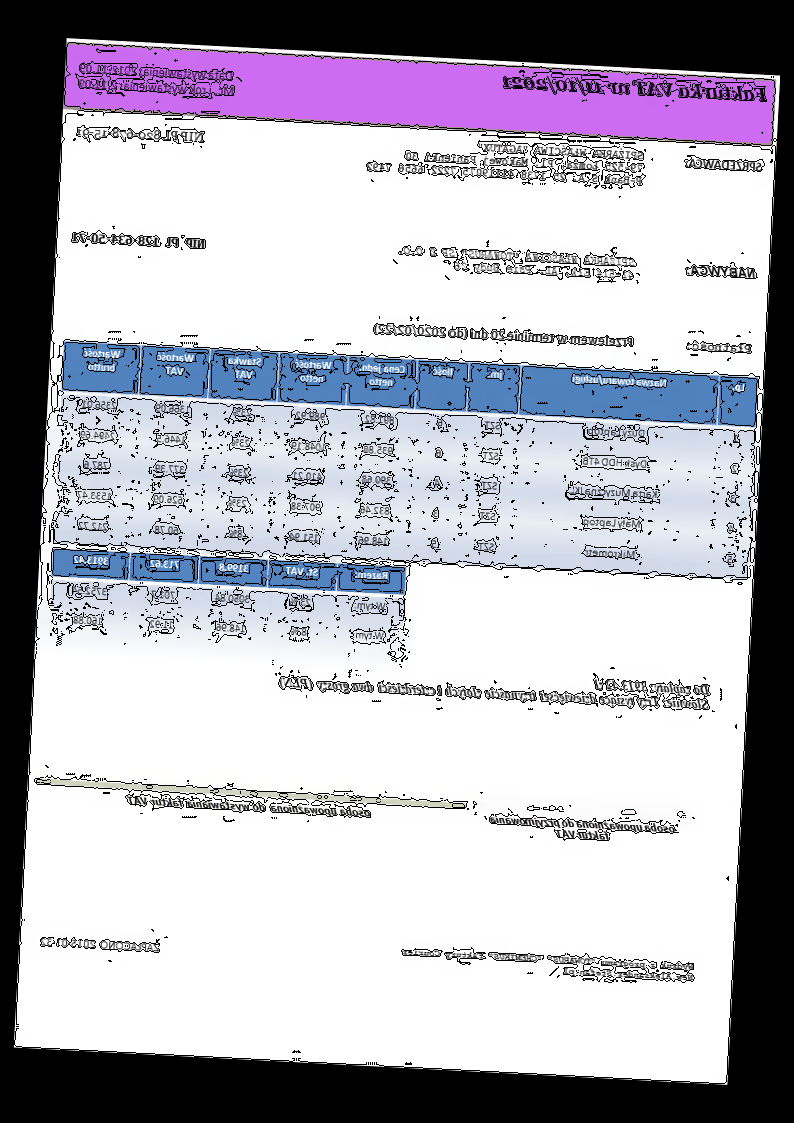Table: (53, 338, 761, 580), (48, 547, 408, 658)
TextBox: (277, 658, 713, 715), (365, 133, 648, 188), (399, 945, 698, 985), (395, 242, 638, 283), (501, 70, 771, 106), (372, 322, 636, 351), (123, 792, 373, 822), (488, 811, 678, 846), (76, 59, 239, 98), (70, 229, 208, 252), (75, 123, 209, 146), (39, 933, 164, 957), (684, 154, 765, 174), (685, 261, 759, 281), (684, 336, 754, 356)
